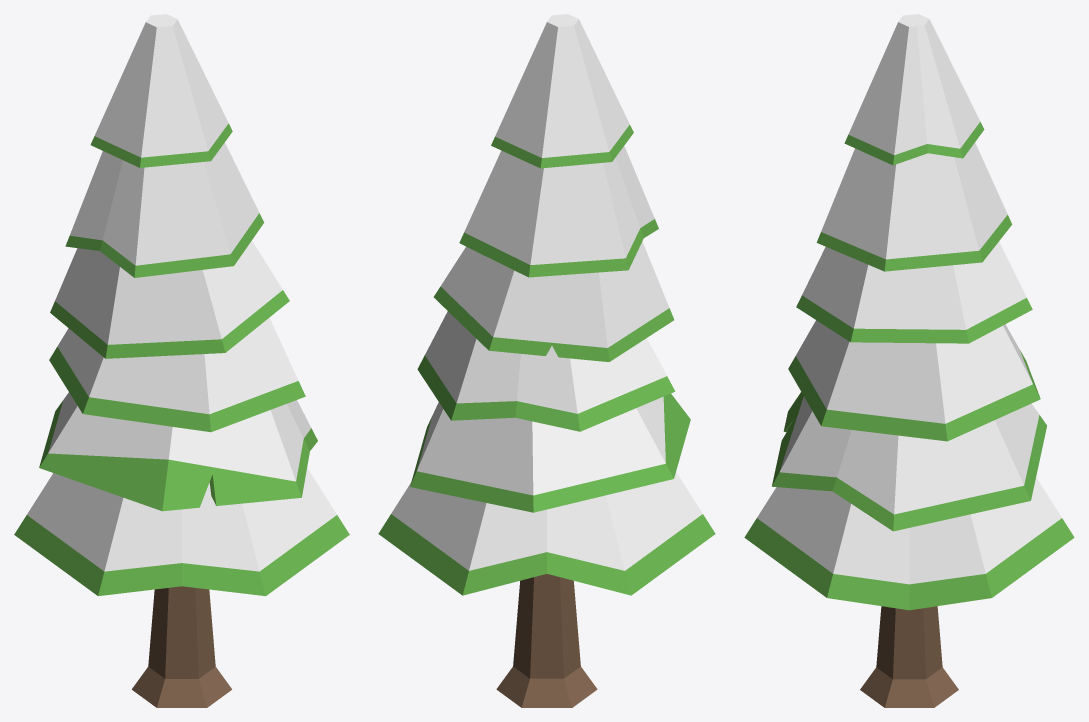
File: tree 7.fbx
3 views of the same model, side by side, from view 1: azimuth 30°, elevation 25°; view 2: azimuth 150°, elevation 25°; view 3: azimuth 270°, elevation 25° (orthographic). The views are drawn at different scales.
Visible parts, largest first — view 1: Tree 7; view 2: Tree 7; view 3: Tree 7.
Part boxes in pixels (x1,y1,x2,y2): Tree 7: (14, 14, 349, 707); Tree 7: (378, 14, 715, 707); Tree 7: (744, 14, 1074, 707).
Size of the model in its own units: 214 by 524 by 237.
Materials: 1 (1 with a texture image).
